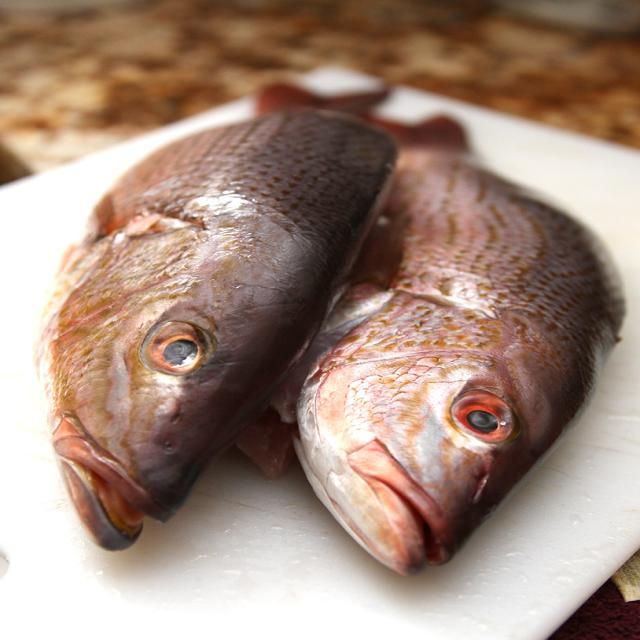fish: (272, 121, 621, 572), (35, 109, 394, 547)
